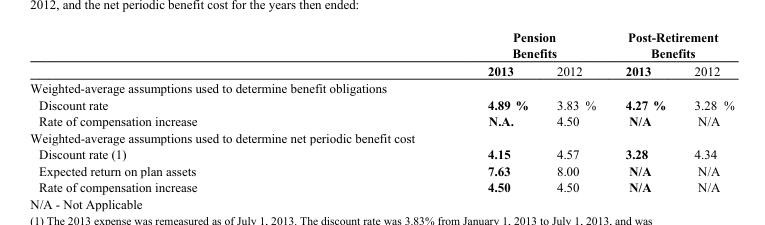table: (29, 29, 733, 193)
table column: (29, 29, 341, 193), (341, 29, 541, 193), (609, 29, 679, 193), (541, 29, 609, 193), (679, 29, 733, 193)
table column header: (29, 29, 733, 79)
table projected row header: (29, 79, 733, 96), (29, 129, 733, 145)
table row: (29, 29, 733, 61), (29, 61, 733, 79), (29, 79, 733, 96), (29, 112, 733, 129), (29, 145, 733, 162), (29, 96, 733, 112), (29, 129, 733, 145), (29, 162, 733, 178), (29, 178, 733, 193)
table spanning cell: (341, 29, 609, 61), (609, 29, 733, 61)
